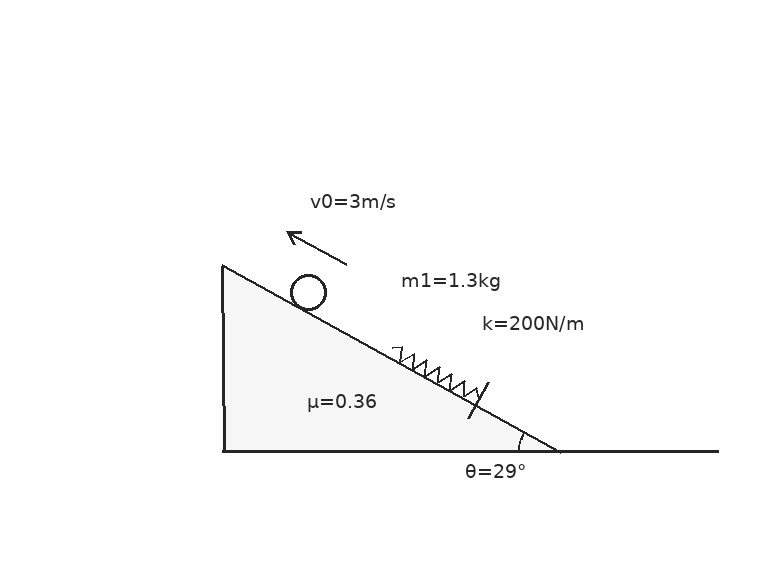ball: (288, 272, 328, 312)
ramp: (220, 263, 561, 454)
spring: (390, 344, 481, 399)
